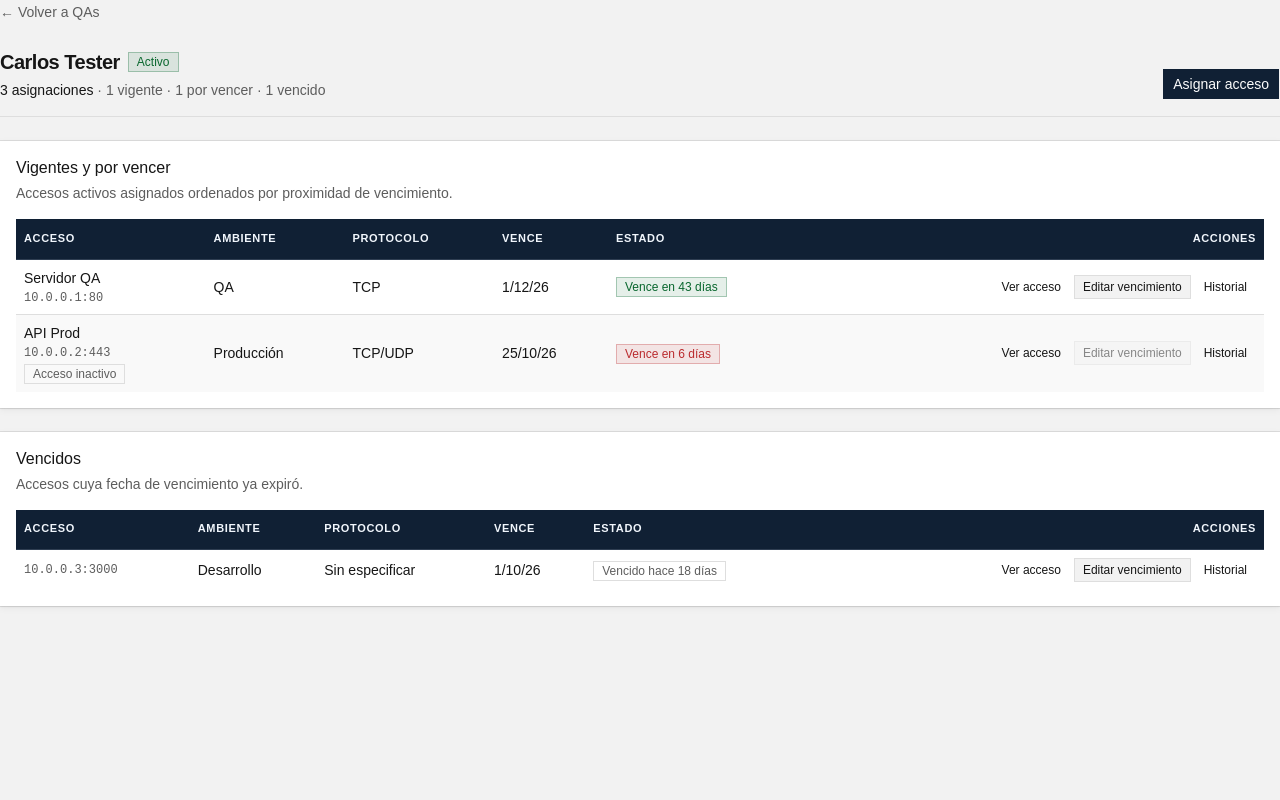
Scenario: AccessesQaDetailPage › abre diálogo de historial de la asignación
This screenshot has width=1280, height=800.
Check: the heading "Carlos Tester" is shown, box [0,48,120,76]
Click the button with aria-label "Historial de asignación 10.0.0.1:80" at {"x": 1225, "y": 286}, box [1195,274,1256,298]
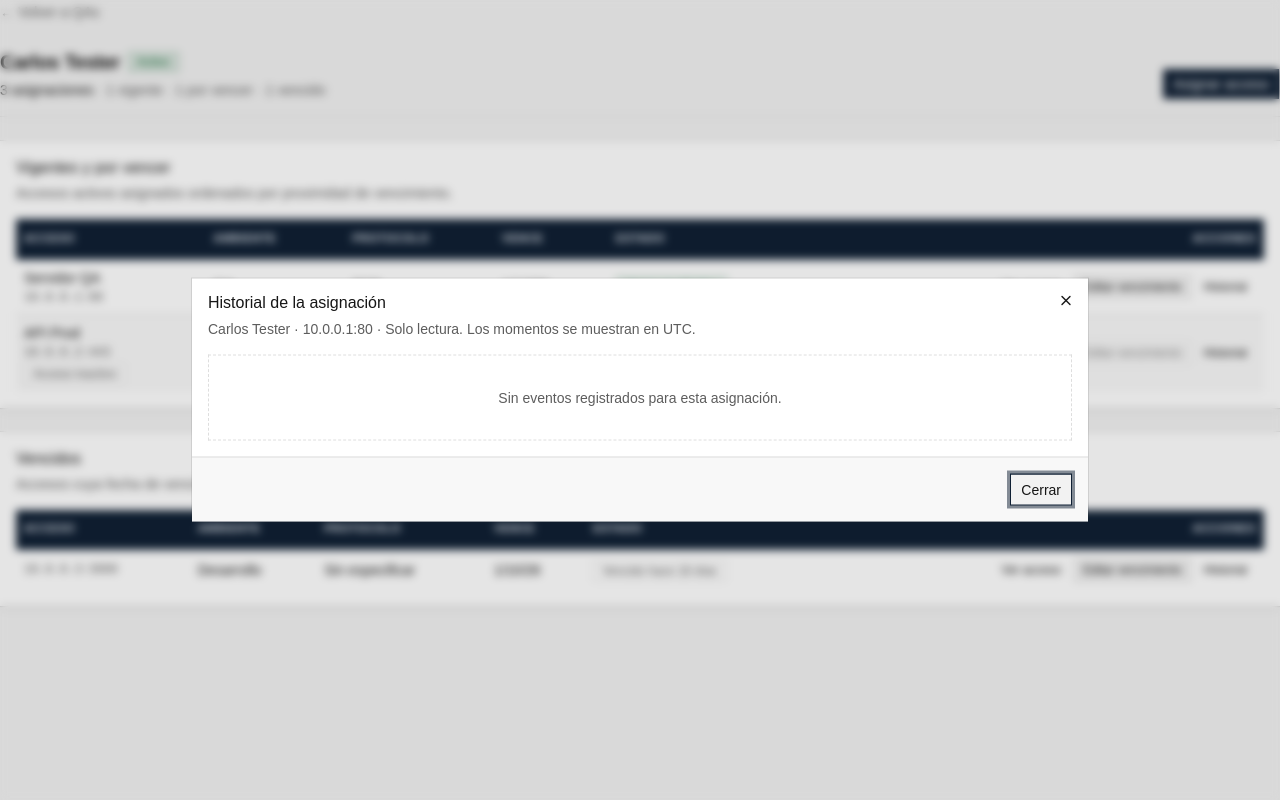
Check: the dialog is shown, box [192,278,1088,522]
Check: the heading "Historial de la asignación" is shown, box [208,294,386,310]
